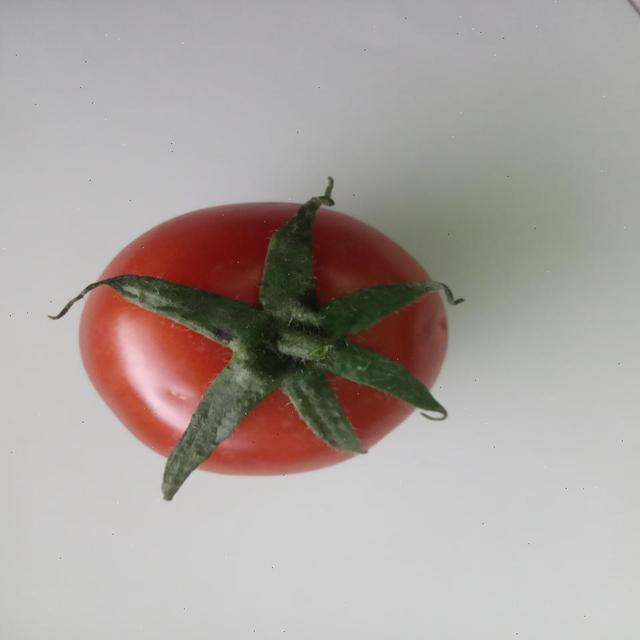Healthy Fruit: (48, 132, 302, 323)
